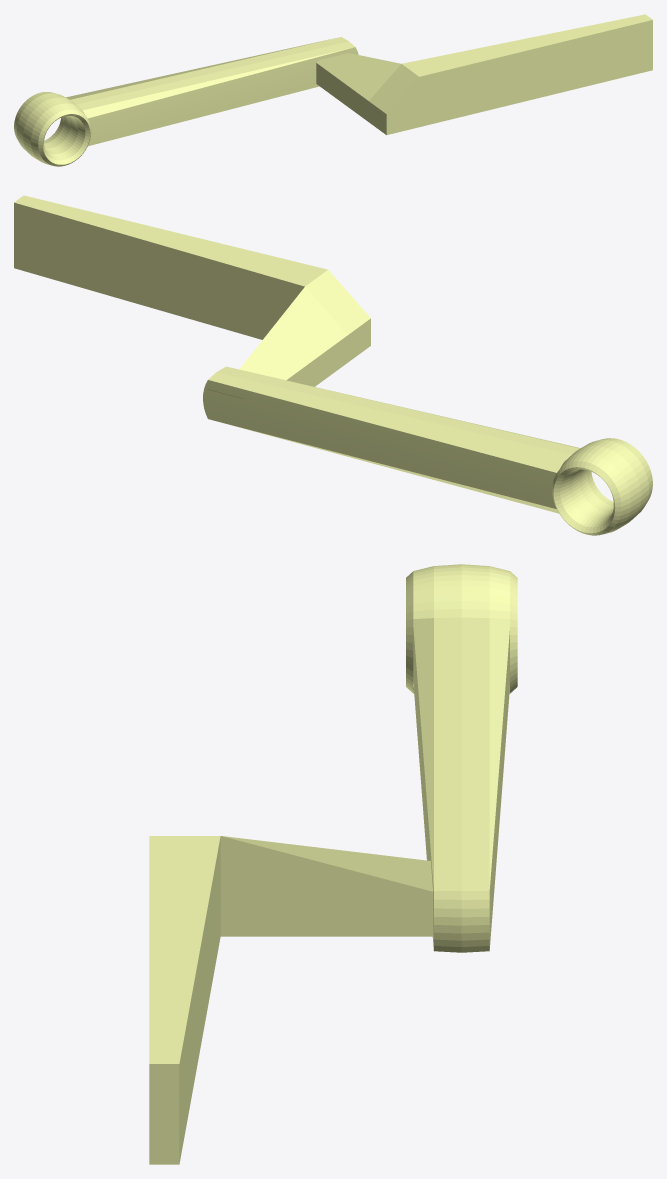
The model's file is gripper_left.gltf.
The picture shows the model from 3 angles, top to bottom: view 1: azimuth 30°, elevation 25°; view 2: azimuth 150°, elevation 25°; view 3: azimuth 270°, elevation 25°; orthographic projection. The views are drawn at different scales.
Parts seen in each view (by area): view 1: Torus.002; view 2: Torus.002; view 3: Torus.002.
Part boxes in pixels (x1,y1,x2,y2): Torus.002: (14, 14, 652, 166); Torus.002: (14, 195, 652, 535); Torus.002: (149, 564, 517, 1164).
Bounding box in the file's own units: 0.0694 × 0.00842 × 0.0201.
1 material, 1 textured.
